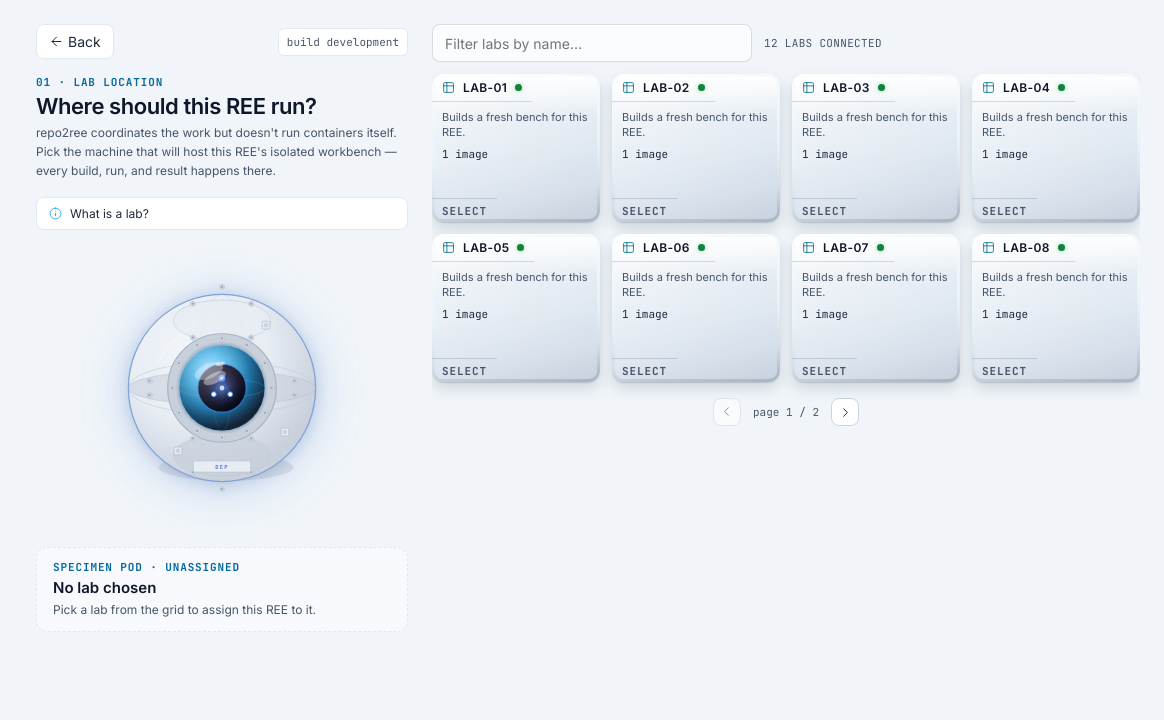
Test: choosing a lab › pages a fleet too large for one grid
Expected: the text "page 1 / 2" is shown, [753,405,819,419]
Expected: the button named "Previous page" is disabled, [713,398,741,426]
Click the button named "Next page": coordinates (845, 412) [831,398,859,426]
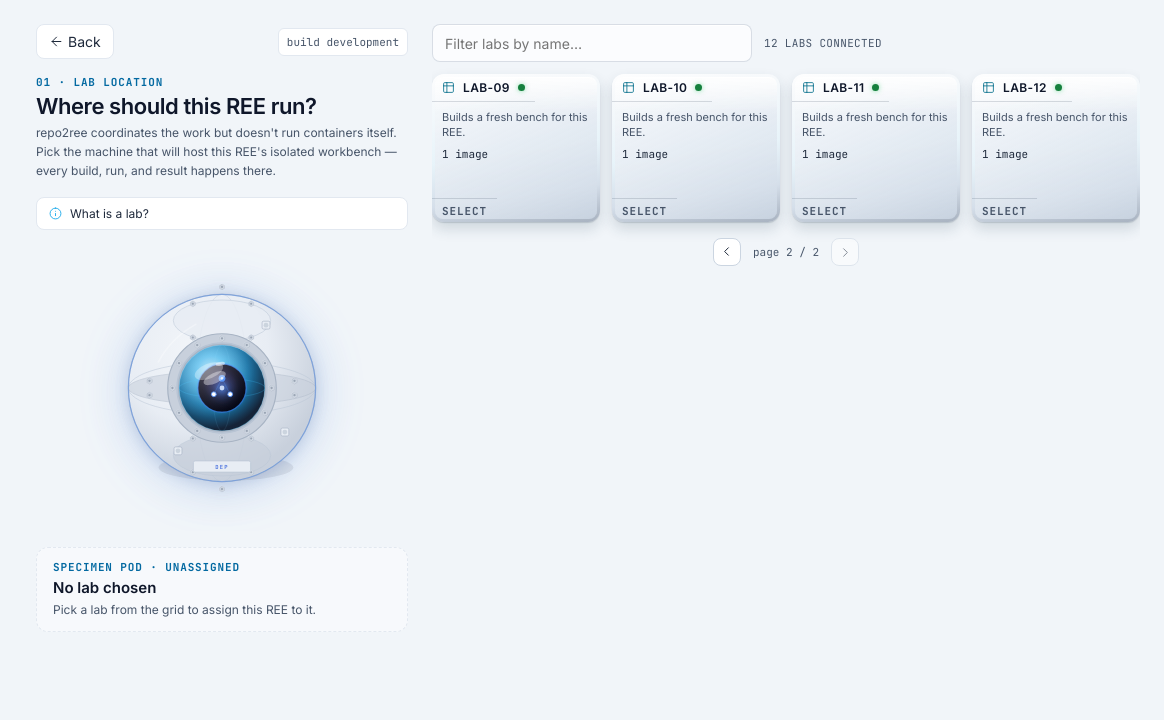
Now the text "page 2 / 2" is shown, box [753,245,819,259]
Now the number of buttons named "available" is 4, box [432,74,600,222]; [612,74,780,222]; [792,74,960,222]; [972,74,1140,222]
Now the button named "Next page" is disabled, box [831,238,859,266]
